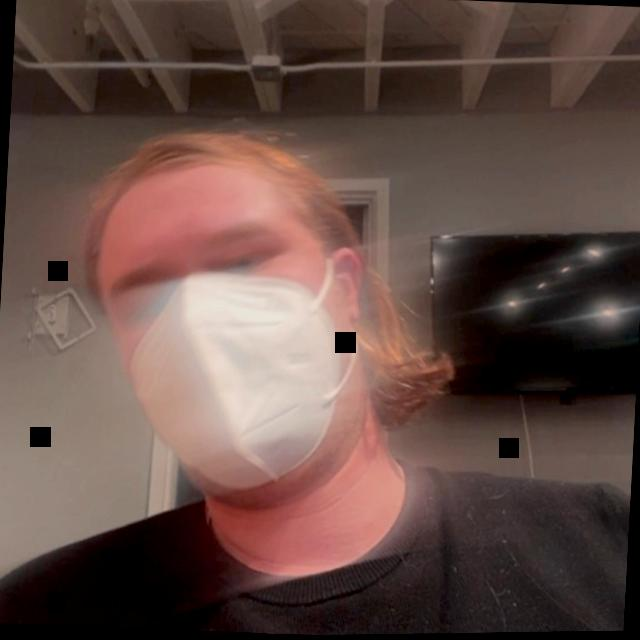Mask: (56, 79, 502, 585)
